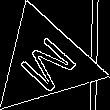M_SE: (11, 28, 80, 96)
